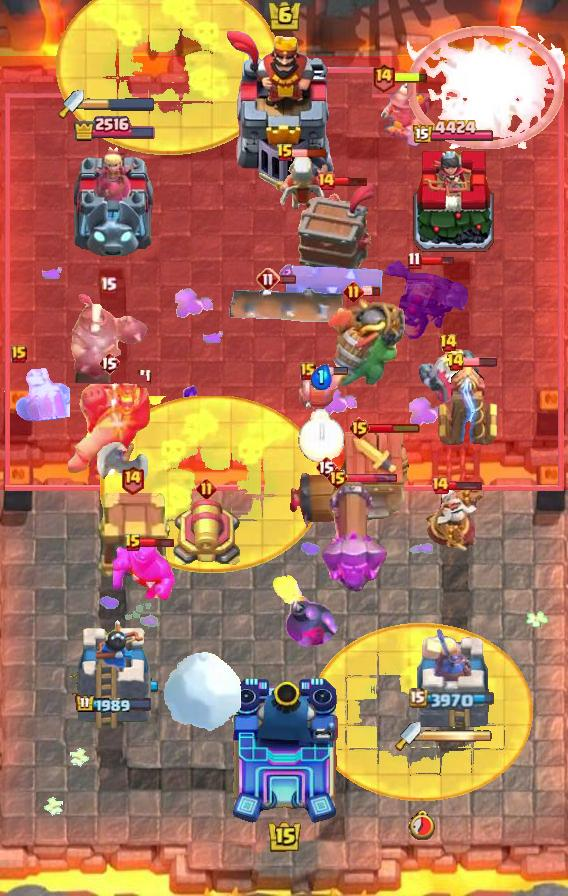archer-evolution: (382, 257, 468, 343)
baby-dragon: (267, 573, 339, 647)
bandit: (369, 76, 431, 148)
bar: (70, 142, 158, 256), (414, 623, 492, 731)
barbarian-evolution: (407, 26, 565, 149)
bomb: (93, 492, 171, 580)
dart-goblin: (297, 182, 379, 276)
electro-spirit: (310, 364, 332, 390), (279, 265, 293, 284)
elixir: (298, 409, 344, 462), (408, 809, 437, 840)
elixir-collector: (423, 484, 489, 554)
emote: (367, 422, 421, 434), (346, 472, 398, 483), (393, 72, 429, 85), (419, 254, 455, 267), (140, 536, 176, 549), (333, 176, 369, 188), (462, 356, 498, 368), (449, 479, 484, 491), (313, 366, 349, 376), (293, 148, 328, 158), (278, 274, 297, 286), (363, 287, 382, 298)
furnace: (320, 477, 388, 597)
goblin-brawler: (433, 362, 501, 448)
king-tower: (223, 31, 345, 181), (228, 676, 340, 826)
king-tower-bar: (84, 97, 156, 111), (421, 729, 493, 743)
knight: (296, 372, 346, 416)
lava-hound: (65, 365, 153, 475)
minion: (225, 284, 347, 328), (282, 264, 384, 298)
mortar-evolution: (0, 368, 70, 426), (417, 343, 479, 403)
night-witch: (322, 287, 406, 401)
phoenix-egg: (311, 623, 534, 802), (99, 396, 324, 573), (56, 1, 281, 156)
poison: (256, 150, 344, 224)
queen-tower: (70, 616, 158, 731), (410, 144, 496, 255)
royal-giant: (96, 425, 150, 489)
royal-guardian: (67, 291, 149, 383)
royal-recruit: (170, 497, 242, 571)
selected: (72, 114, 156, 142), (413, 118, 496, 145), (409, 688, 497, 710), (75, 693, 153, 714)
sparky: (329, 431, 415, 529)
text: (371, 63, 396, 94), (119, 464, 144, 495), (256, 267, 280, 291), (349, 416, 372, 440), (326, 466, 349, 490), (98, 351, 120, 375), (315, 455, 337, 479), (195, 477, 217, 499), (343, 281, 364, 303), (316, 171, 336, 191), (446, 352, 466, 372), (430, 475, 450, 495), (438, 333, 457, 353), (276, 143, 294, 163), (124, 533, 142, 553), (99, 276, 117, 295), (11, 345, 27, 363), (300, 362, 316, 380), (406, 251, 421, 270)
the-log: (286, 468, 366, 528)
tornado: (113, 541, 175, 601)
wall-breaker: (161, 650, 243, 732)
